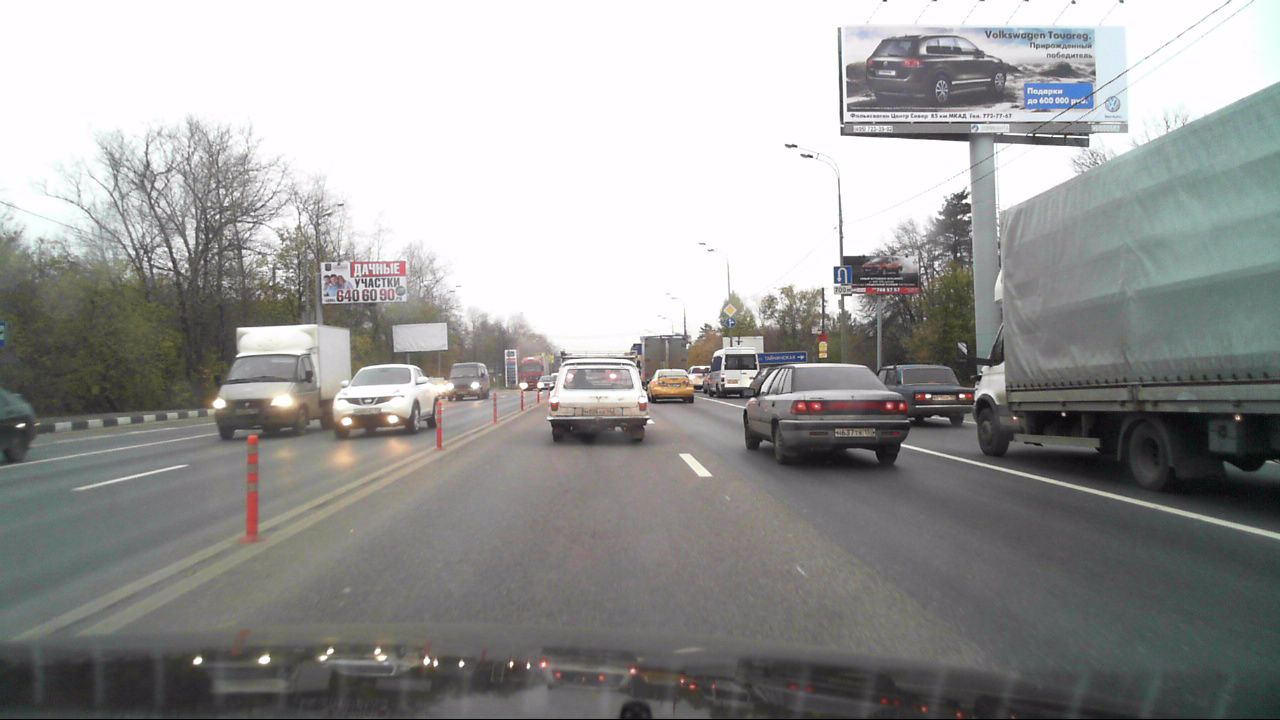U-turn: (834, 267, 852, 284)
